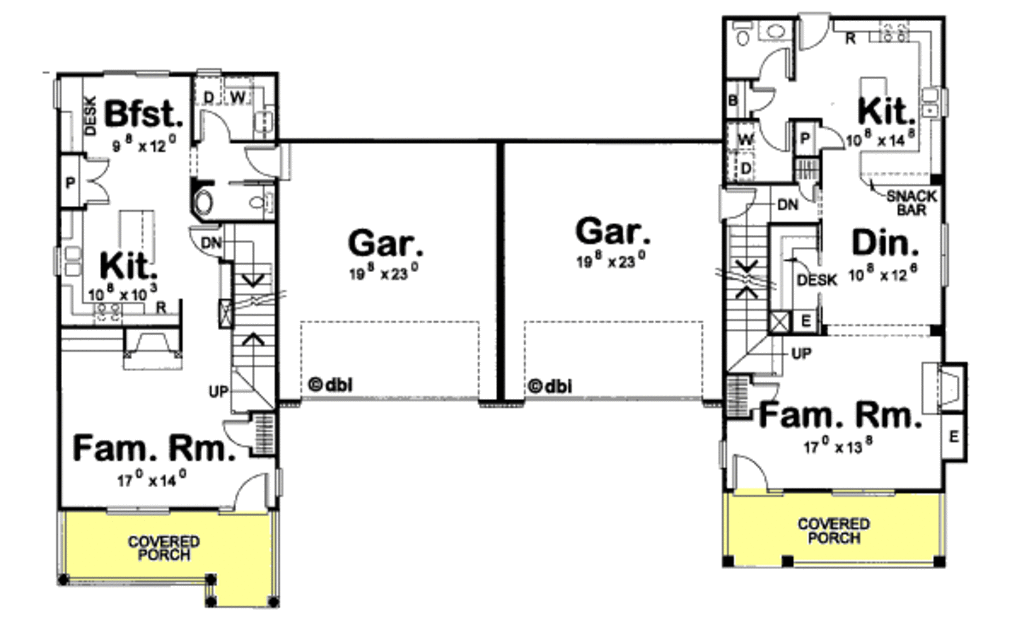door: (220, 462, 274, 517), (216, 412, 278, 457), (730, 445, 773, 502), (243, 142, 297, 182), (78, 150, 111, 206), (797, 9, 836, 53), (719, 182, 759, 222), (756, 117, 793, 154), (197, 108, 233, 145), (756, 46, 793, 80), (814, 118, 848, 153), (747, 79, 778, 116), (795, 179, 822, 205)
large_sink: (241, 181, 275, 220), (728, 24, 751, 48)
small_sink: (191, 180, 214, 216), (759, 19, 788, 43)
stairs: (214, 220, 283, 412), (730, 220, 801, 377)
twin_sink: (914, 81, 943, 123), (64, 240, 83, 278)
window: (822, 482, 898, 501), (103, 504, 170, 519)
